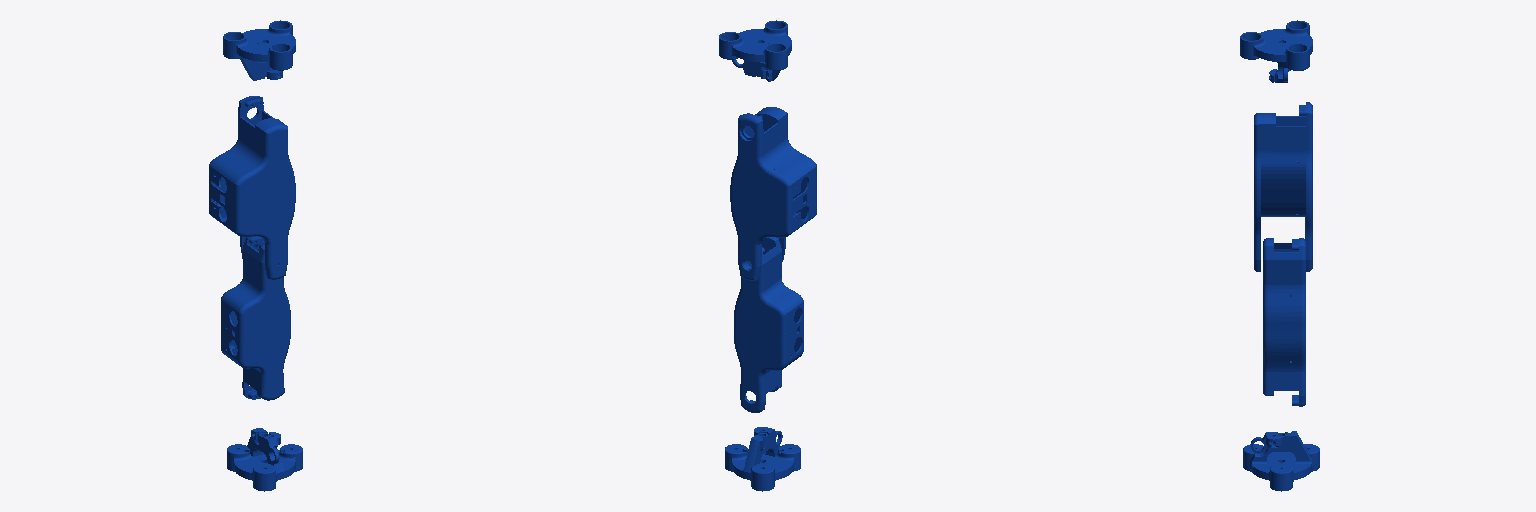
The robot description file, URDF, robot "inchworm":
<?xml version="1.0"?>
<robot name="inchworm">
  <link name="world" />

  <!-- End effector attached to world -->
  <link name="iw_foot_bottom">
    <inertial>
      <mass value="0.151" />
      <inertia ixx="3.8554e-05" ixy="9.4075e-07" ixz="1.709e-06" iyy="4.445e-05" iyz="1.2246e-06" izz="2.5729e-05"/>
    </inertial>
    <visual>
      <origin xyz="-0.035 0.0425 -0.0425" rpy="1.57 0 0" />
      <geometry>
        <mesh filename="package://inchworm_description/meshes/ee.stl" scale="0.001 0.001 0.001" />
      </geometry>
      <material name="blue">
        <color rgba="0.113 0.321 0.678 1.0" />
      </material>
    </visual>
    <collision>
      <origin xyz="0 0 -0.027685" rpy="0 0 0" />
      <geometry>
        <box size="0.07 0.07 0.05463" />
      </geometry>
    </collision>
  </link>

  <!-- Link attached to EE -->
  <link name="iw_ankle_bottom">
    <inertial>
      <mass value="0.151" />
      <inertia ixx="3.8554e-05" ixy="9.4075e-07" ixz="1.709e-06" iyy="4.445e-05" iyz="1.2246e-06" izz="2.5729e-05"/>
    </inertial>
    <visual>
      <geometry>
        <mesh filename="package://inchworm_description/meshes/ankle.stl" scale="0.001 0.001 0.001" />
      </geometry>
      <material name="blue">
        <color rgba="0.113 0.321 0.678 1.0" />
      </material>
    </visual>
    <collision>
      <origin xyz="0 -0.02 0" rpy="0 0 0" />
      <geometry>
        <box size="0.045 0.08 0.08" />
      </geometry>
    </collision>
  </link>

  <!-- First big link -->
  <link name="iw_beam_bottom">
    <origin xyz="0 0 0" rpy="0 0 3.14" />
    <inertial>
      <mass value="0.151" />
      <inertia ixx="3.8554e-05" ixy="9.4075e-07" ixz="1.709e-06" iyy="4.445e-05" iyz="1.2246e-06" izz="2.5729e-05"/>
    </inertial>
    <visual>
      <origin xyz="0.185 -0.03 0.022" rpy="0 3.14 0" />
      <geometry>
        <mesh filename="package://inchworm_description/meshes/beam_bottom.stl" scale="0.001 0.001 0.001" />
      </geometry>
      <material name="blue">
        <color rgba="0.113 0.321 0.678 1.0" />
      </material>
    </visual>
    <collision>
      <origin xyz="0.0825 0 0" rpy="0 0 0" />
      <geometry>
        <box size="0.22 0.05 0.08" />
      </geometry>
    </collision>
  </link>

  <!-- Second big link -->
  <link name="iw_beam_top">
    <inertial>
      <mass value="0.151" />
      <inertia ixx="3.8554e-05" ixy="9.4075e-07" ixz="1.709e-06" iyy="4.445e-05" iyz="1.2246e-06" izz="2.5729e-05"/>
    </inertial>
    <visual>
      <origin xyz="0.02 0.0575 -0.0325" rpy="0 0 3.14" />
      <geometry>
        <mesh filename="package://inchworm_description/meshes/beam_top.stl" scale="0.001 0.001 0.001" />
      </geometry>
      <material name="blue">
        <color rgba="0.113 0.321 0.678 1.0" />
      </material>
    </visual>
    <collision>
      <origin xyz="-0.0825 0 0" rpy="0 0 0" />
      <geometry>
        <box size="0.22 0.05 0.08" />
      </geometry>
    </collision>
  </link>

  <link name="iw_ankle_top">
    <inertial>
      <mass value="0.151" />
      <inertia ixx="3.8554e-05" ixy="9.4075e-07" ixz="1.709e-06" iyy="4.445e-05" iyz="1.2246e-06" izz="2.5729e-05"/>
    </inertial>
    <visual>
      <origin xyz="0 0 0" rpy="0 0 -1.57" />
      <geometry>
        <mesh filename="package://inchworm_description/meshes/ankle.stl" scale="0.001 0.001 0.001" />
      </geometry>
      <material name="blue">
        <color rgba="0.113 0.321 0.678 1.0" />
      </material>
    </visual>
    <collision>
      <origin xyz="-0.02 0 0" rpy="0 0 0" />
      <geometry>
        <box size="0.08 0.045 0.08" />
      </geometry>
    </collision>
  </link>

  
  <link name="iw_foot_top">
    <inertial>
      <mass value="0.151" />
      <inertia ixx="3.8554e-05" ixy="9.4075e-07" ixz="1.709e-06" iyy="4.445e-05" iyz="1.2246e-06" izz="2.5729e-05"/>
    </inertial>
    <visual>
      <origin xyz="-0.035 0.0425 -0.0425" rpy="1.57 0 0" />
      <geometry>
        <mesh filename="package://inchworm_description/meshes/ee.stl" scale="0.001 0.001 0.001" />
      </geometry>
      <material name="blue">
        <color rgba="0.113 0.321 0.678 1.0" />
      </material>
    </visual>
    <collision>
      <origin xyz="0 0 -0.027685" rpy="0 0 0" />
      <geometry>
        <box size="0.07 0.07 0.05463" />
      </geometry>
    </collision>
  </link>

  <joint name="foot_to_world" type="fixed">
    <origin xyz="0 0 0.05537" rpy="0 0 0" />

    <parent link="world" />
    <child  link="iw_foot_bottom" />
  </joint>

  <joint name="iw_ankle_foot_bottom" type="revolute">
    <origin xyz="0 0 0.0625" rpy="1.57 0 0" />

    <parent link="iw_foot_bottom" />
    <child  link="iw_ankle_bottom" />

    <axis xyz="0 -1 0" />
    <limit effort="10" velocity="1.0" lower="-3.14" upper="3.14" />
  </joint>

  <transmission name="t1">
    <type>transmission_interface/SimpleTransmission</type>
    <joint name="iw_ankle_foot_bottom">
      <hardwareInterface>hardware_interface/EffortJointInterface</hardwareInterface>
    </joint>
    <actuator name="motor1">
      <hardwareInterface>hardware_interface/EffortJointInterface</hardwareInterface>
      <mechanicalReduction>1</mechanicalReduction>
    </actuator>
  </transmission>

  <joint name="iw_beam_ankle_bottom" type="revolute">
    <origin xyz="0 0 0.001" rpy="0 0 1.57" />

    <parent link="iw_ankle_bottom" />
    <child  link="iw_beam_bottom" />

    <axis xyz="0 0 -1" />
    <limit effort="10" velocity="1.0" lower="-3.14" upper="3.14" />
  </joint>

  <transmission name="t2">
    <type>transmission_interface/SimpleTransmission</type>
    <joint name="iw_beam_ankle_bottom">
      <hardwareInterface>hardware_interface/EffortJointInterface</hardwareInterface>
    </joint>
    <actuator name="motor2">
      <hardwareInterface>hardware_interface/EffortJointInterface</hardwareInterface>
      <mechanicalReduction>1</mechanicalReduction>
    </actuator>
  </transmission>

  <joint name="iw_mid_joint" type="revolute">
    <origin xyz="0.165 0 -0.001" rpy="3.14 0 3.14" />

    <parent link="iw_beam_bottom" />
    <child  link="iw_beam_top" />

    <axis xyz="0 0 1" />
    <limit effort="10" velocity="1.0" lower="-3.14" upper="3.14" />
  </joint>

  <transmission name="t3">
    <type>transmission_interface/SimpleTransmission</type>
    <joint name="iw_mid_joint">
      <hardwareInterface>hardware_interface/EffortJointInterface</hardwareInterface>
    </joint>
    <actuator name="motor3">
      <hardwareInterface>hardware_interface/EffortJointInterface</hardwareInterface>
      <mechanicalReduction>1</mechanicalReduction>
    </actuator>
  </transmission>

  <joint name="iw_beam_ankle_top" type="revolute">
    <origin xyz="-0.165 0 0" rpy="0 0 0" />

    <parent link="iw_beam_top" />
    <child  link="iw_ankle_top" />

    <axis xyz="0 0 1" />
    <limit effort="10" velocity="1.0" lower="-3.14" upper="3.14" />
  </joint>

  <transmission name="t4">
    <type>transmission_interface/SimpleTransmission</type>
    <joint name="iw_beam_ankle_top">
      <hardwareInterface>hardware_interface/EffortJointInterface</hardwareInterface>
    </joint>
    <actuator name="motor4">
      <hardwareInterface>hardware_interface/EffortJointInterface</hardwareInterface>
      <mechanicalReduction>1</mechanicalReduction>
    </actuator>
  </transmission>

  
  <joint name="iw_ankle_foot_top" type="revolute">
    <origin xyz="-0.0625 0 0" rpy="0 1.57 0" />

    <parent link="iw_ankle_top" />
    <child  link="iw_foot_top" />

    <axis xyz="0 0 -1" />
    <limit effort="10" velocity="1.0" lower="-3.14" upper="3.14" />
  </joint>

  <transmission name="t5">
    <type>transmission_interface/SimpleTransmission</type>
    <joint name="iw_ankle_foot_top">
      <hardwareInterface>hardware_interface/EffortJointInterface</hardwareInterface>
    </joint>
    <actuator name="motor5">
      <hardwareInterface>hardware_interface/EffortJointInterface</hardwareInterface>
      <mechanicalReduction>1</mechanicalReduction>
    </actuator>
  </transmission>

  <gazebo>
    <plugin name="gazebo_ros_control" filename="libgazebo_ros_control.so">
      <robotNamespace>/inchworm</robotNamespace>
    </plugin>
  </gazebo>
</robot>

--- What the picture shows (computed from the rendered views, not written in the file) ---
Views: 3 orthographic renders of the robot side by side, from view 1: azimuth 30°, elevation 25°; view 2: azimuth 150°, elevation 25°; view 3: azimuth 270°, elevation 25°.
Robot: inchworm — 7 links, 6 joints (5 revolute, 1 fixed); root link world; default pose: all joints at 0.
Visible links, largest first — view 1: iw_beam_top, iw_beam_bottom, iw_foot_bottom, iw_foot_top; view 2: iw_beam_top, iw_beam_bottom, iw_foot_bottom, iw_foot_top; view 3: iw_beam_top, iw_beam_bottom, iw_foot_bottom, iw_foot_top.
Link boxes in pixels (box(x1,y1,x2,y2)): iw_beam_top: box(209, 96, 295, 279); iw_beam_bottom: box(221, 236, 290, 400); iw_foot_bottom: box(227, 428, 302, 491); iw_foot_top: box(223, 20, 295, 80); iw_beam_top: box(730, 107, 816, 280); iw_beam_bottom: box(734, 237, 803, 412); iw_foot_bottom: box(725, 427, 800, 491); iw_foot_top: box(719, 20, 791, 81); iw_beam_top: box(1254, 102, 1312, 271); iw_beam_bottom: box(1263, 238, 1305, 406); iw_foot_bottom: box(1243, 431, 1319, 491); iw_foot_top: box(1240, 20, 1312, 82).
Bounding box of the posed robot: 0.102 × 0.0892 × 0.5401 m (x, y, z).
Meshes: 4 distinct files referenced, 4 mesh visuals loaded (3 binary STL); not drawn: 2 (reference not matched to a file when rendering).